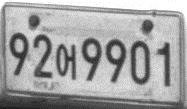0: (130, 40, 151, 84)
1: (156, 41, 172, 87)
2: (32, 33, 53, 78)
9: (104, 38, 127, 83), (81, 37, 103, 82), (8, 32, 30, 76)
어: (55, 42, 77, 81)
